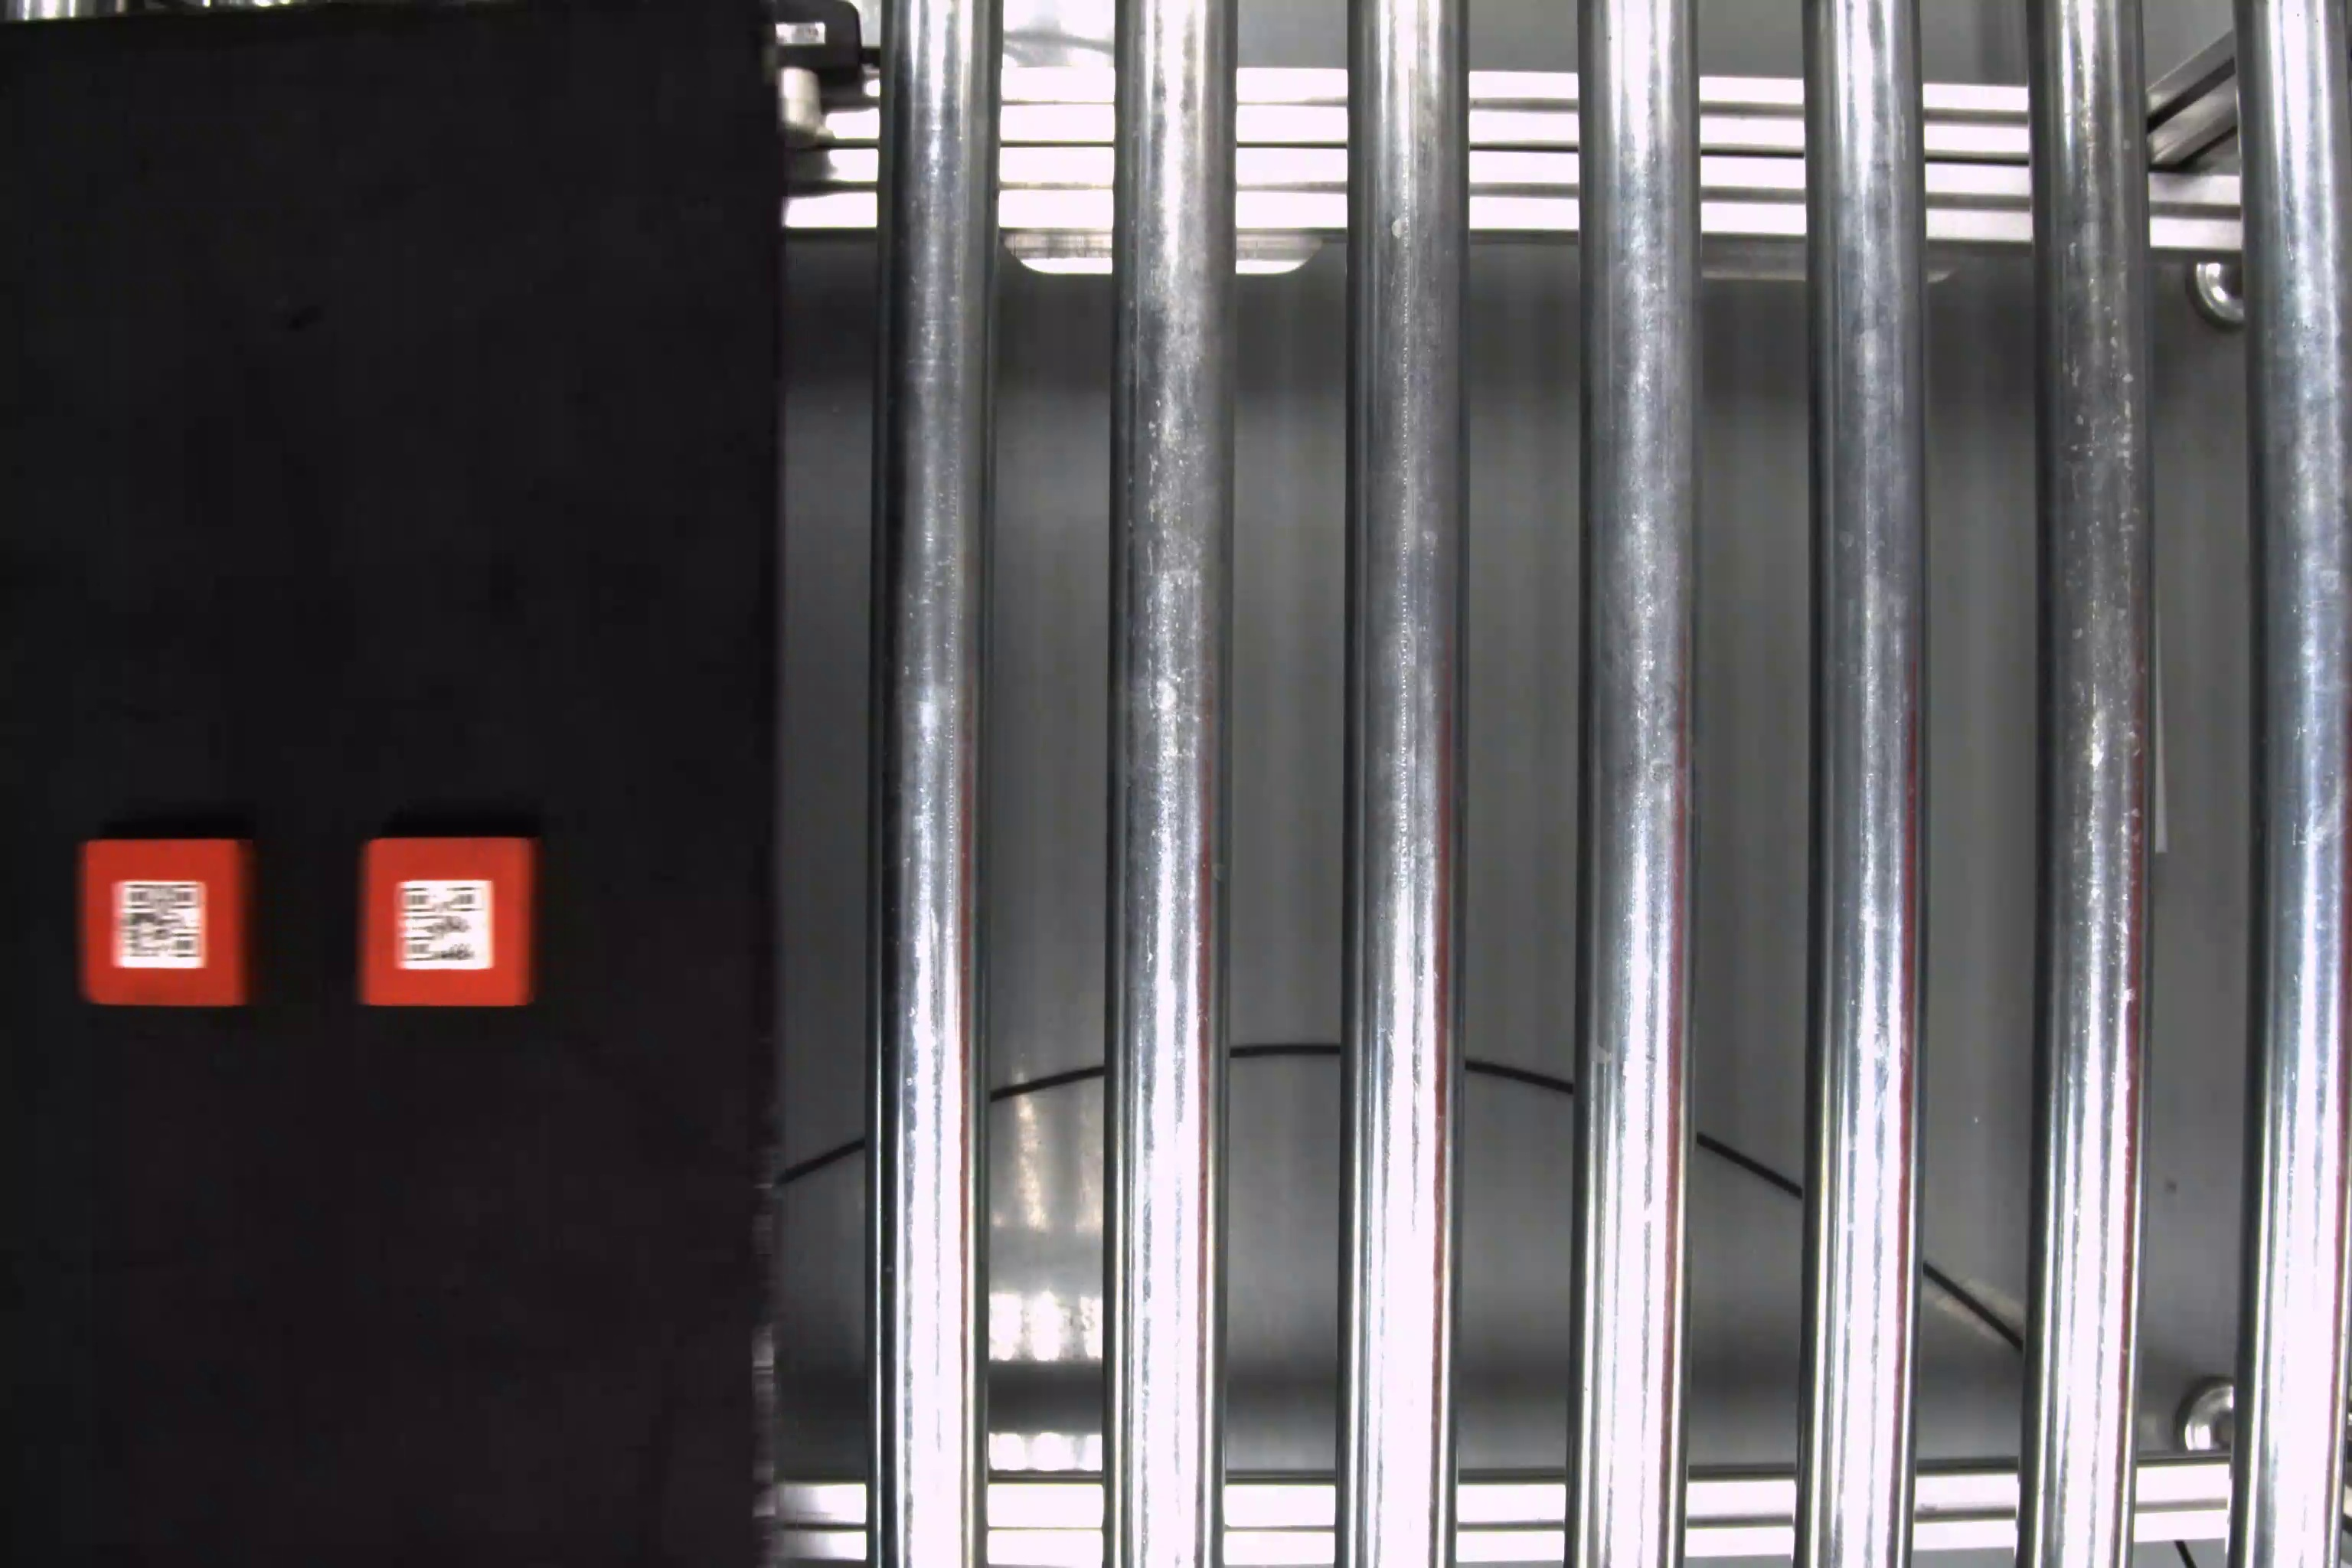wood: (79, 833, 262, 1006), (364, 835, 546, 1008)
